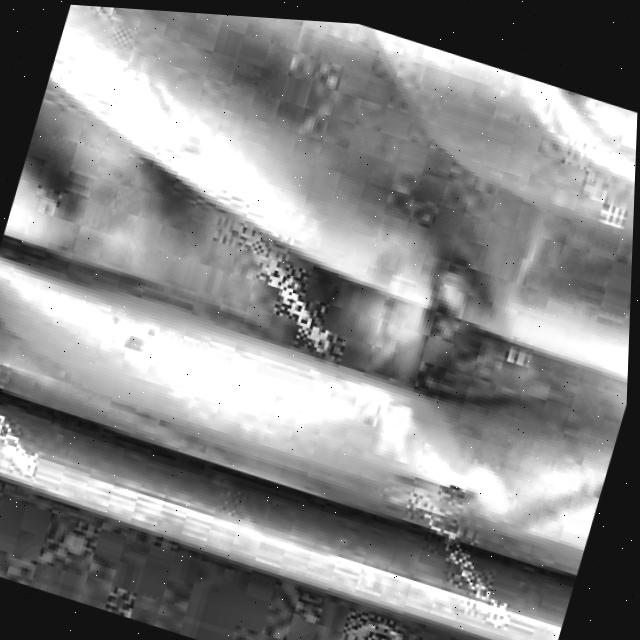bumper_dent: (0, 161, 634, 543)
